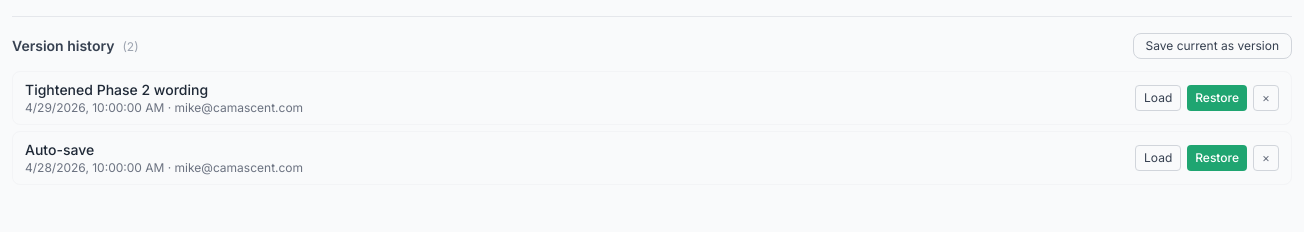
Test: PromptVersionHistory › shows the save-as-version input when 'Save current as version' is clicked
Check: the text "Tightened Phase 2 wording" is shown, box top-left (25, 81), bottom-right (208, 98)
Step 1. Click the button "Save current as version" → (1212, 46), box top-left (1132, 33), bottom-right (1292, 59)
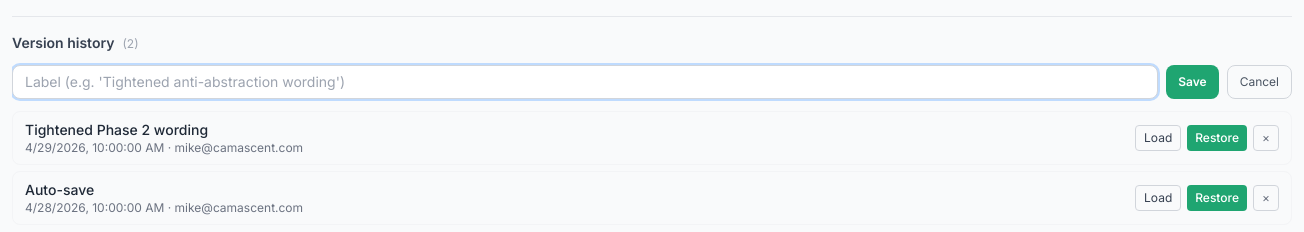
Check: the button "Save" is shown, box top-left (1166, 65), bottom-right (1219, 99)
Check: the field with placeholder "Label (e.g. 'Tightened anti-abstraction wording')" is shown, box top-left (12, 65), bottom-right (1158, 99)
Check: the button "Cancel" is shown, box top-left (1227, 65), bottom-right (1292, 99)
